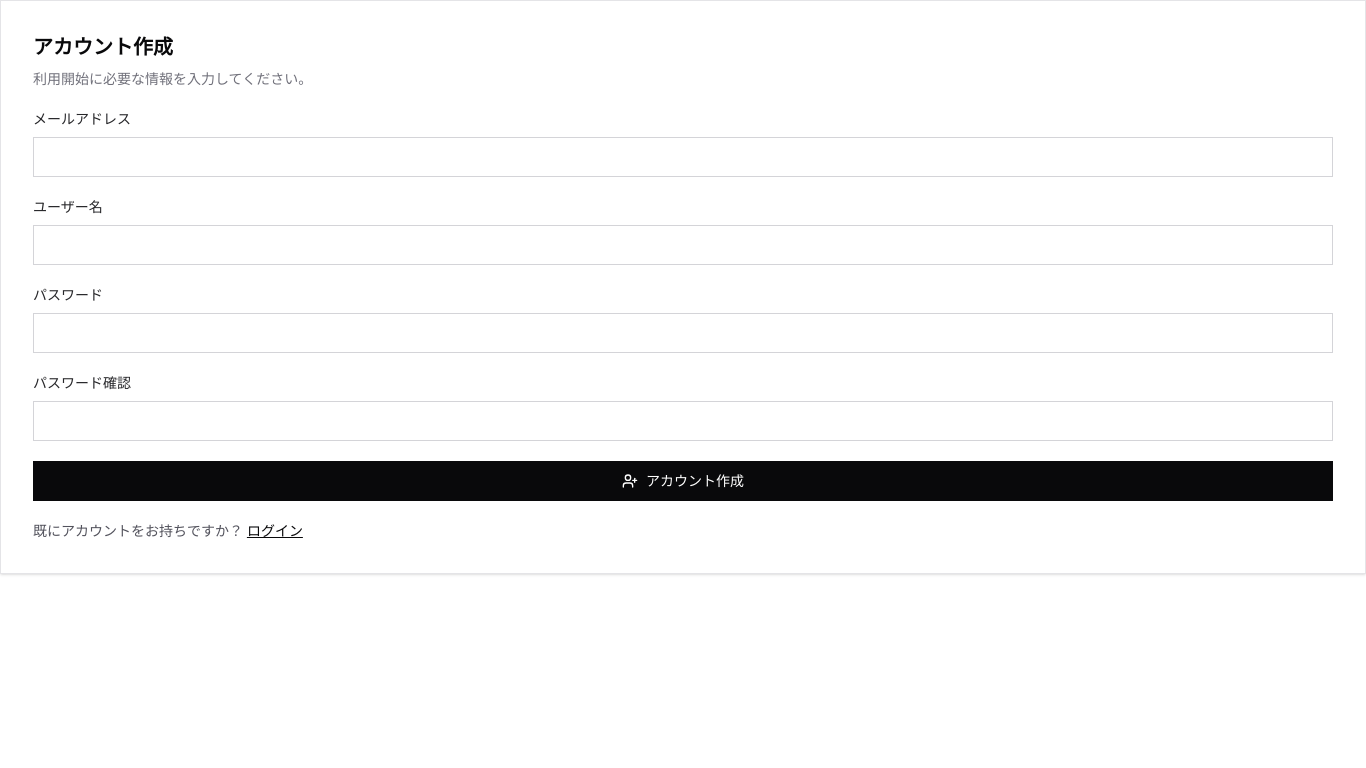
it: AccountSignupForm › 入力エラーを対象項目付近に表示する
Click the button "アカウント作成".
click(683, 481)  # box top-left (33, 461), bottom-right (1333, 501)
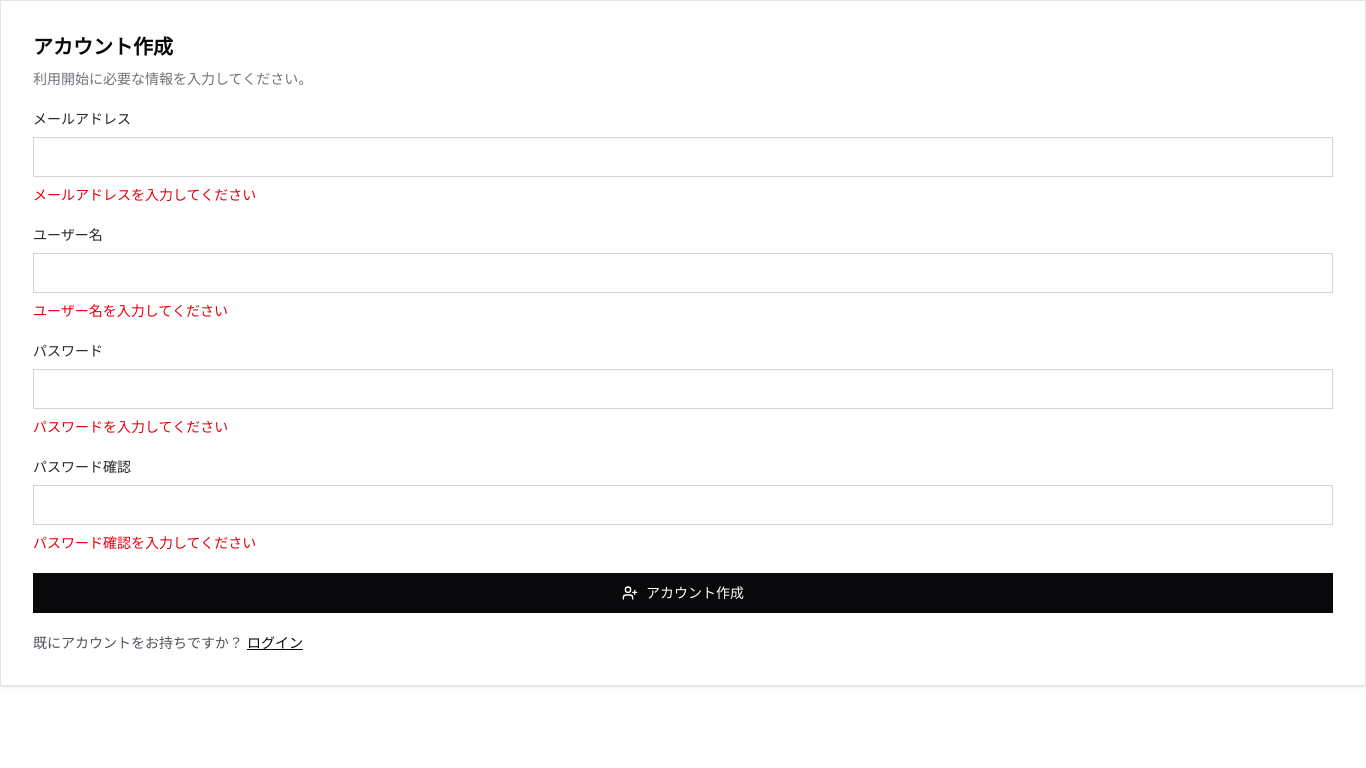
expect the text "メールアドレスを入力してください" is shown: met, box top-left (33, 187), bottom-right (256, 203)
expect the text "ユーザー名を入力してください" is shown: met, box top-left (33, 303), bottom-right (228, 319)
expect the text "パスワードを入力してください" is shown: met, box top-left (33, 419), bottom-right (228, 435)
